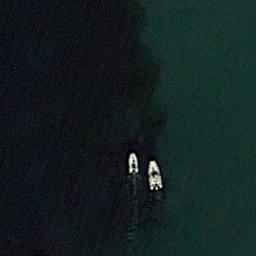boat: (146, 158, 163, 192), (126, 152, 138, 175)
